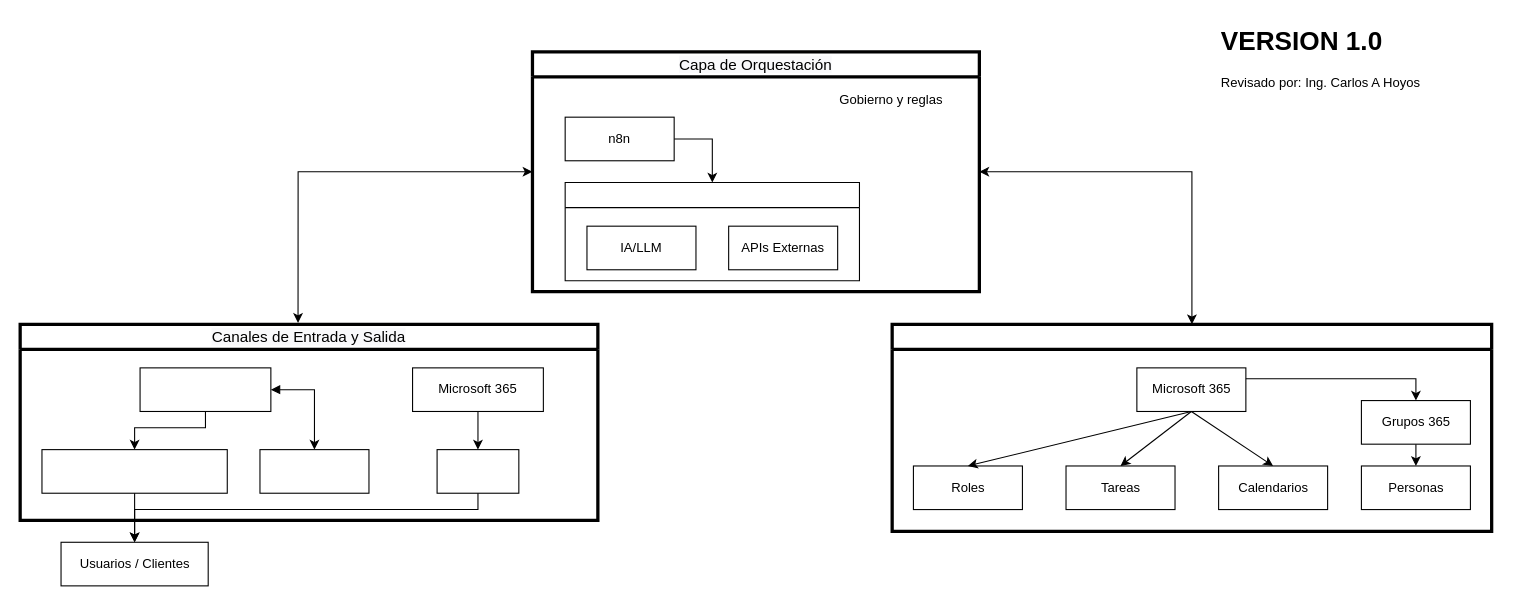
Some shapes in this 1533 by 605 pixel diagram are drawn without their labels. The shapes that lost their labels are listed below. From the top down, each one's box as (x1, y1, x2, y2) in pixels, then its label:
(564, 181, 859, 281): Extensiones y Capacidades
(139, 367, 271, 411): Ecosistema Meta
(890, 322, 1493, 532): Plataformas Empresariales
(41, 449, 227, 493): WhatsApp Business API
(259, 449, 369, 493): Instagram
(436, 449, 519, 493): Correo
